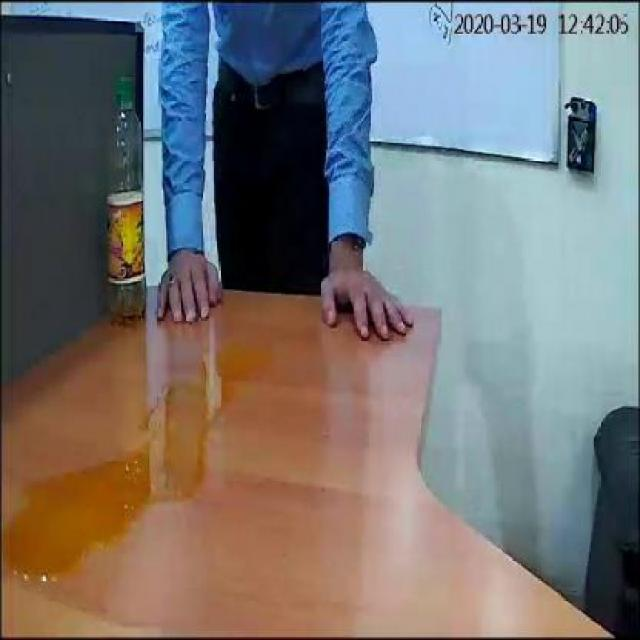spill: (4, 336, 268, 581)
